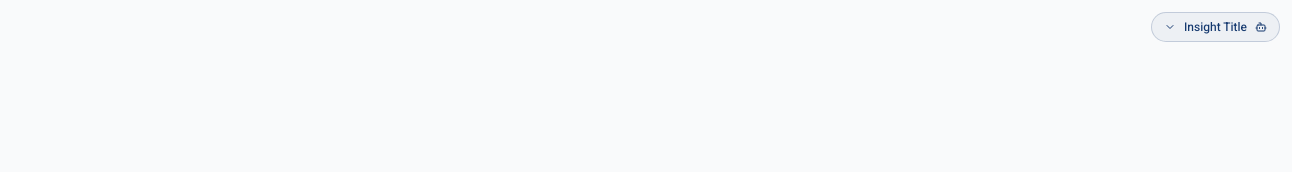
Test: ContextualInsight › shows content after clicking trigger
The width and height of the screenshot is (1292, 172).
Click the button "Insight Title": (1216, 27) [1151,12,1280,42]
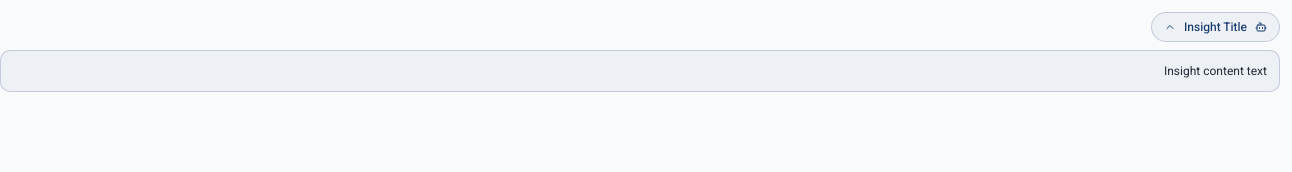
Expected: the text "Insight content text" is shown, [1164,62,1267,80]
